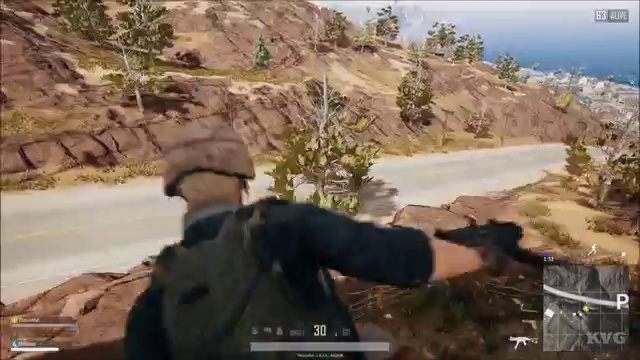Player: (88, 111, 524, 309)
